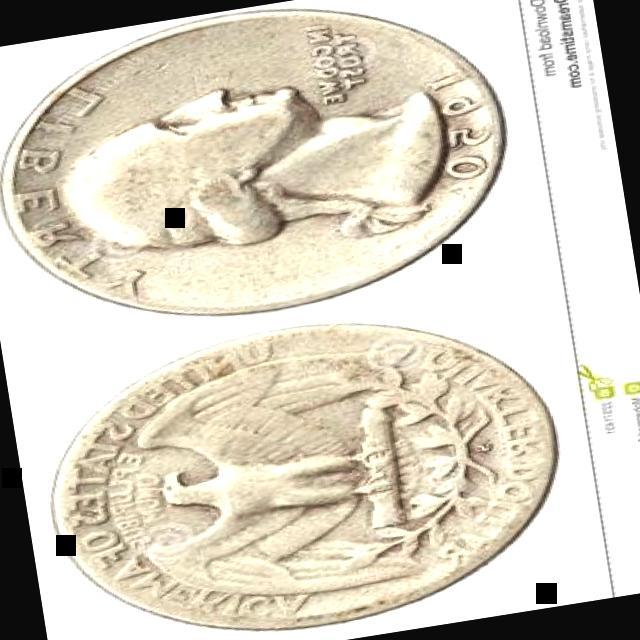Quarter: (14, 290, 598, 640), (0, 0, 549, 365)
